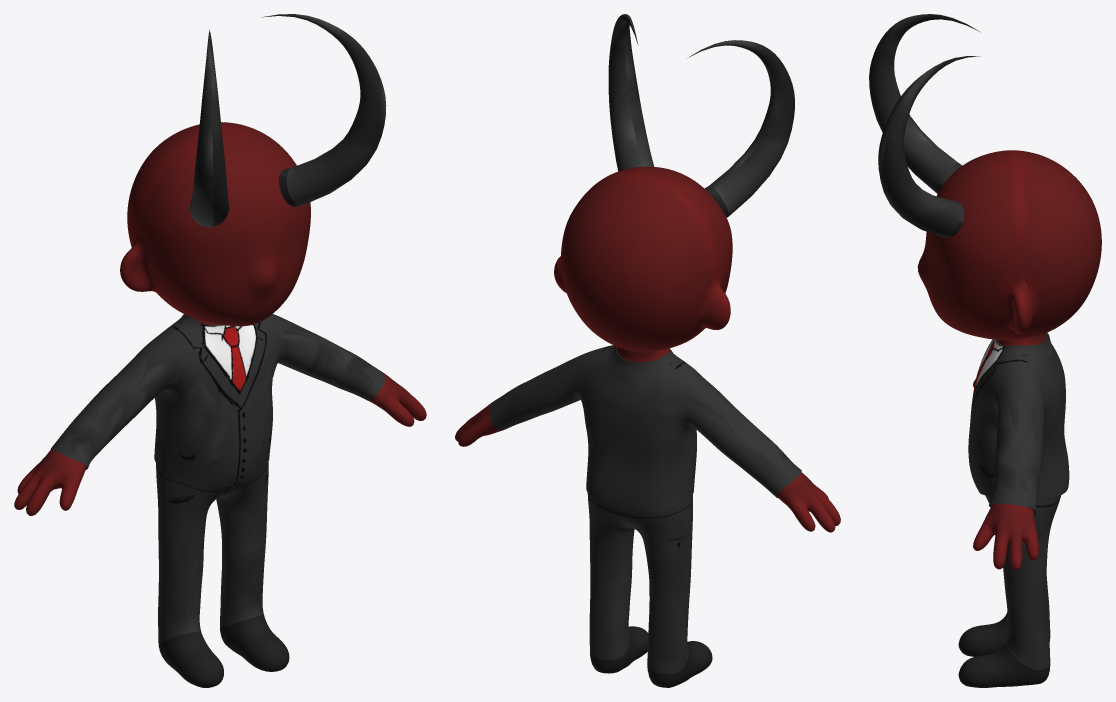
Rendered from Devil.fbx.
The picture shows the model from 3 angles, left to right: view 1: azimuth 30°, elevation 25°; view 2: azimuth 150°, elevation 25°; view 3: azimuth 270°, elevation 25°; orthographic projection. The views are drawn at different scales.
Parts seen in each view (by area): view 1: Character_Tussenweek3:polySurface2, pasted__pasted__pCylinder2, pasted__pasted__pCylinder3; view 2: Character_Tussenweek3:polySurface2, pasted__pasted__pCylinder3, pasted__pasted__pCylinder2; view 3: Character_Tussenweek3:polySurface2, pasted__pasted__pCylinder2, pasted__pasted__pCylinder3.
Boxes of the visible parts, box(x1,y1,x2,y2) form: Character_Tussenweek3:polySurface2: box(14, 122, 426, 687); pasted__pasted__pCylinder2: box(262, 14, 386, 206); pasted__pasted__pCylinder3: box(189, 30, 229, 227); Character_Tussenweek3:polySurface2: box(455, 166, 840, 687); pasted__pasted__pCylinder3: box(688, 40, 794, 217); pasted__pasted__pCylinder2: box(608, 14, 654, 171); Character_Tussenweek3:polySurface2: box(917, 150, 1101, 687); pasted__pasted__pCylinder2: box(878, 56, 980, 237); pasted__pasted__pCylinder3: box(869, 14, 980, 193).
Size of the model in its own units: 3.99 by 6.19 by 2.07.
